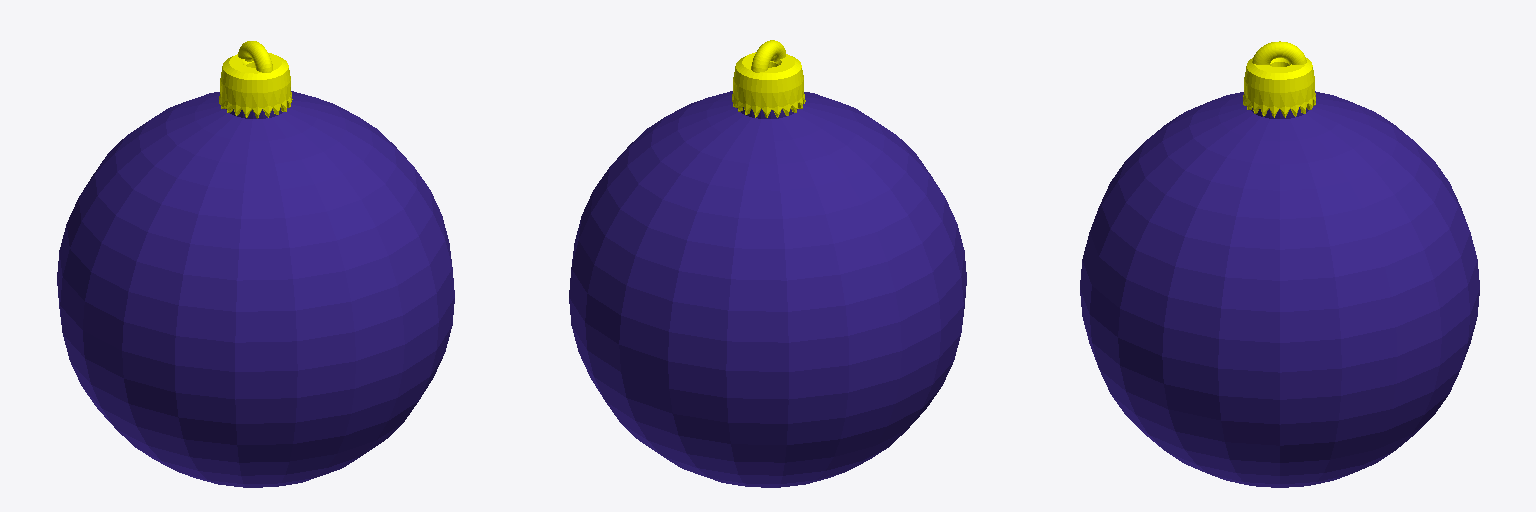
3 renders of one model, left to right at view 1: azimuth 30°, elevation 25°; view 2: azimuth 150°, elevation 25°; view 3: azimuth 270°, elevation 25°, orthographic.
Parts seen in each view (by area): view 1: Glass_Ball1Red_Bulb, Red_Bulbtop_crownpPipe2, Red_BulbpTorus1top_crown; view 2: Glass_Ball1Red_Bulb, Red_Bulbtop_crownpPipe2, Red_BulbpTorus1top_crown; view 3: Glass_Ball1Red_Bulb, Red_Bulbtop_crownpPipe2, Red_BulbpTorus1top_crown.
Part boxes in pixels (x1,y1,x2,y2): Glass_Ball1Red_Bulb: (57,91,454,487); Red_Bulbtop_crownpPipe2: (219,53,292,118); Red_BulbpTorus1top_crown: (238,41,272,72); Glass_Ball1Red_Bulb: (569,91,966,487); Red_Bulbtop_crownpPipe2: (732,52,805,117); Red_BulbpTorus1top_crown: (751,40,785,72); Glass_Ball1Red_Bulb: (1080,91,1479,487); Red_Bulbtop_crownpPipe2: (1243,57,1315,117); Red_BulbpTorus1top_crown: (1252,41,1306,65).
Size of the model in its own units: 13.51 by 15.9 by 13.51.
2 materials, 2 textured.